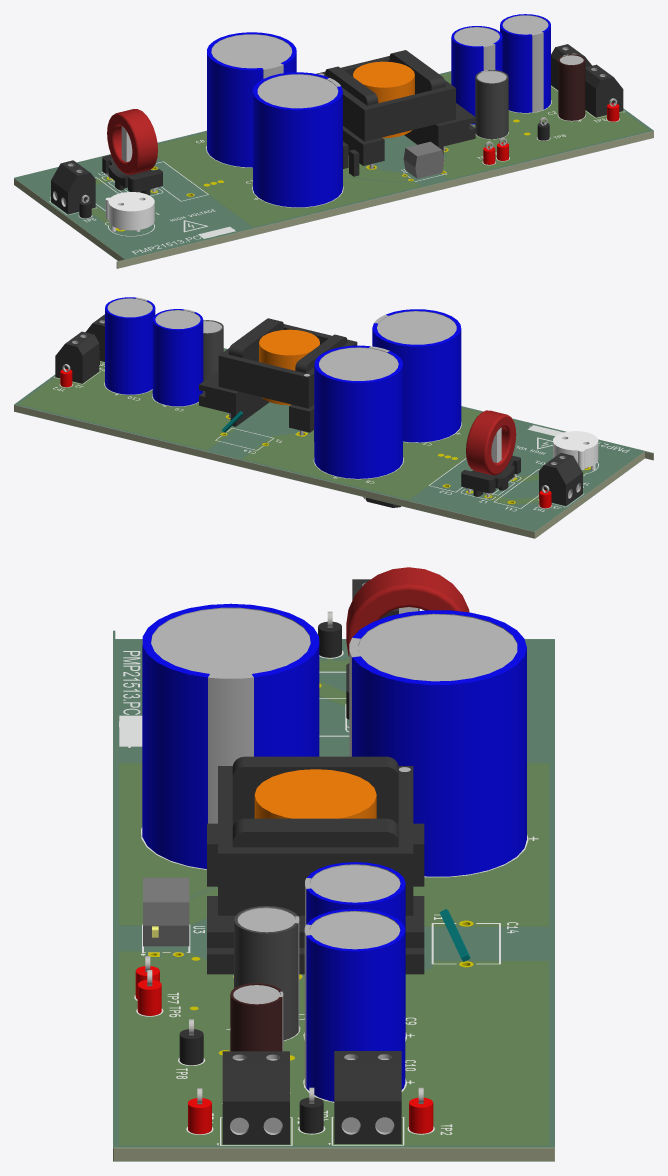
The model's file is machnguonxungPMP21513.glb.
3 views of the same model, one above another, from view 1: azimuth 30°, elevation 25°; view 2: azimuth 150°, elevation 25°; view 3: azimuth 270°, elevation 25° (orthographic). The views are drawn at different scales.
Parts seen in each view (by area): view 1: =>[0:1:1:70], =>[0:1:1:7] (×2), =>[0:1:1:72], =>[0:1:1:67], =>[0:1:1:27], =>[0:1:1:12] (×2), NAUO_NAME9 (×3), NAUO_NAME19 (×3), =>[0:1:1:31], =>[0:1:1:29], =>[0:1:1:33], =>[0:1:1:68] (+2 smaller); view 2: =>[0:1:1:70], =>[0:1:1:7] (×2), =>[0:1:1:72], =>[0:1:1:67], =>[0:1:1:27], =>[0:1:1:12] (×2), NAUO_NAME9 (×4), NAUO_NAME19 (×3), =>[0:1:1:68], =>[0:1:1:33], =>[0:1:1:31], =>[0:1:1:71]; view 3: =>[0:1:1:70], =>[0:1:1:7] (×2), =>[0:1:1:67], =>[0:1:1:27], =>[0:1:1:72], =>[0:1:1:12] (×2), NAUO_NAME9 (×5), NAUO_NAME19 (×2), =>[0:1:1:31], =>[0:1:1:68], =>[0:1:1:29], =>0:1:1:36.
Boxes of the visible parts, bbox=[...] form: =>[0:1:1:70]: bbox=[14, 71, 653, 261]; =>[0:1:1:7] (×2): bbox=[207, 32, 342, 207]; =>[0:1:1:72]: bbox=[14, 72, 653, 268]; =>[0:1:1:67]: bbox=[92, 73, 648, 231]; =>[0:1:1:27]: bbox=[316, 50, 475, 176]; =>[0:1:1:12] (×2): bbox=[451, 14, 550, 124]; NAUO_NAME9 (×3): bbox=[59, 44, 575, 214]; NAUO_NAME19 (×3): bbox=[51, 71, 623, 207]; =>[0:1:1:31]: bbox=[475, 70, 508, 139]; =>[0:1:1:29]: bbox=[558, 54, 585, 120]; =>[0:1:1:33]: bbox=[105, 192, 154, 231]; =>[0:1:1:68]: bbox=[49, 86, 625, 254]; =>[0:1:1:70]: bbox=[14, 348, 653, 531]; =>[0:1:1:7] (×2): bbox=[314, 309, 461, 478]; =>[0:1:1:72]: bbox=[14, 349, 653, 538]; =>[0:1:1:67]: bbox=[20, 350, 590, 504]; =>[0:1:1:27]: bbox=[199, 318, 357, 441]; =>[0:1:1:12] (×2): bbox=[105, 297, 203, 406]; NAUO_NAME9 (×4): bbox=[55, 317, 582, 499]; NAUO_NAME19 (×3): bbox=[74, 331, 574, 505]; =>[0:1:1:68]: bbox=[53, 361, 629, 511]; =>[0:1:1:33]: bbox=[553, 431, 598, 470]; =>[0:1:1:31]: bbox=[203, 320, 223, 380]; =>[0:1:1:71]: bbox=[14, 411, 652, 538]; =>[0:1:1:70]: bbox=[113, 630, 554, 1147]; =>[0:1:1:7] (×2): bbox=[142, 603, 526, 876]; =>[0:1:1:67]: bbox=[119, 659, 548, 1144]; =>[0:1:1:27]: bbox=[207, 756, 424, 974]; =>[0:1:1:72]: bbox=[113, 631, 554, 1161]; =>[0:1:1:12] (×2): bbox=[304, 862, 405, 1101]; NAUO_NAME9 (×5): bbox=[256, 567, 469, 1144]; NAUO_NAME19 (×2): bbox=[222, 1051, 367, 1144]; =>[0:1:1:31]: bbox=[234, 906, 299, 1040]; =>[0:1:1:68]: bbox=[119, 650, 538, 1145]; =>[0:1:1:29]: bbox=[230, 983, 283, 1051]; =>0:1:1:36: bbox=[143, 877, 189, 946].
Bounding box in the file's own units: 0.1273 × 0.0265 × 0.046.
